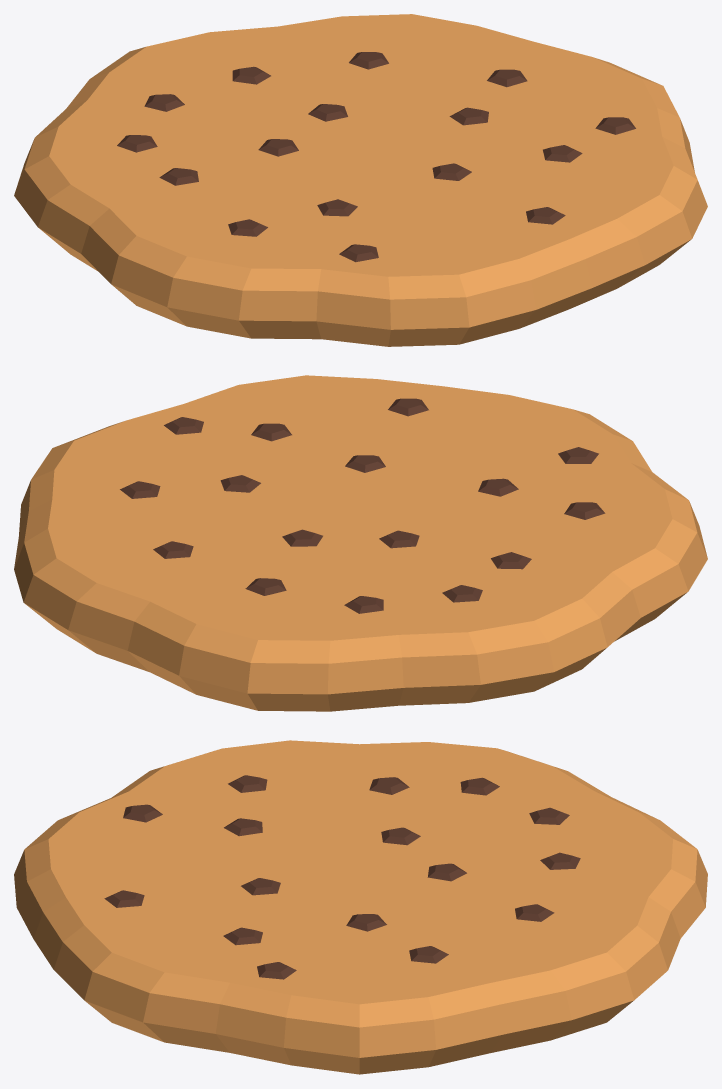
Rendered from CV3_CookieL.fbx.
3 renders of one model, top to bottom at view 1: azimuth 30°, elevation 25°; view 2: azimuth 150°, elevation 25°; view 3: azimuth 270°, elevation 25°, orthographic.
Visible parts, largest first — view 1: CV3_CookieL_Dough, CV3_CookieL_Chips; view 2: CV3_CookieL_Dough, CV3_CookieL_Chips; view 3: CV3_CookieL_Dough, CV3_CookieL_Chips.
Part boxes in pixels (x1,y1,x2,y2): CV3_CookieL_Dough: (14,14,707,346); CV3_CookieL_Chips: (117,52,635,262); CV3_CookieL_Dough: (14,375,707,711); CV3_CookieL_Chips: (120,398,605,613); CV3_CookieL_Dough: (14,740,707,1074); CV3_CookieL_Chips: (104,775,580,979).
Bounding box in the file's own units: 23.3 × 2.75 × 23.3.
